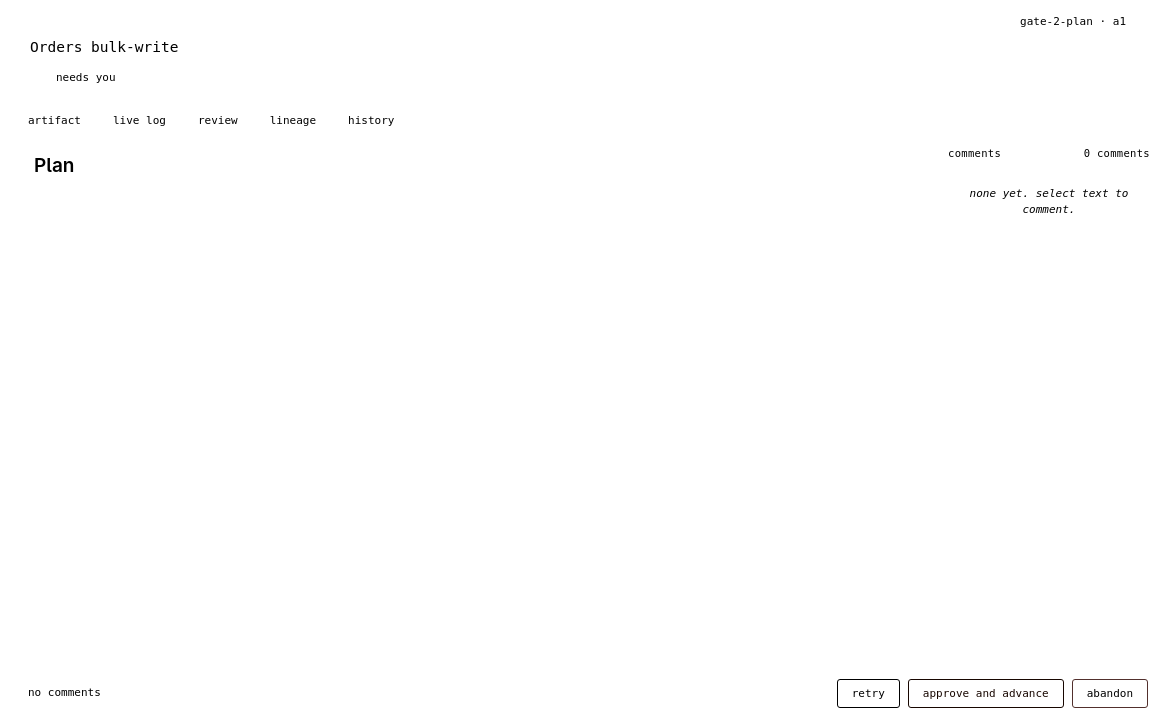
Test case: CardDrawer › shows an empty history hint when there are no invocations
Click the tab "history" at {"x": 371, "y": 120}, box top-left (332, 105), bottom-right (410, 136)
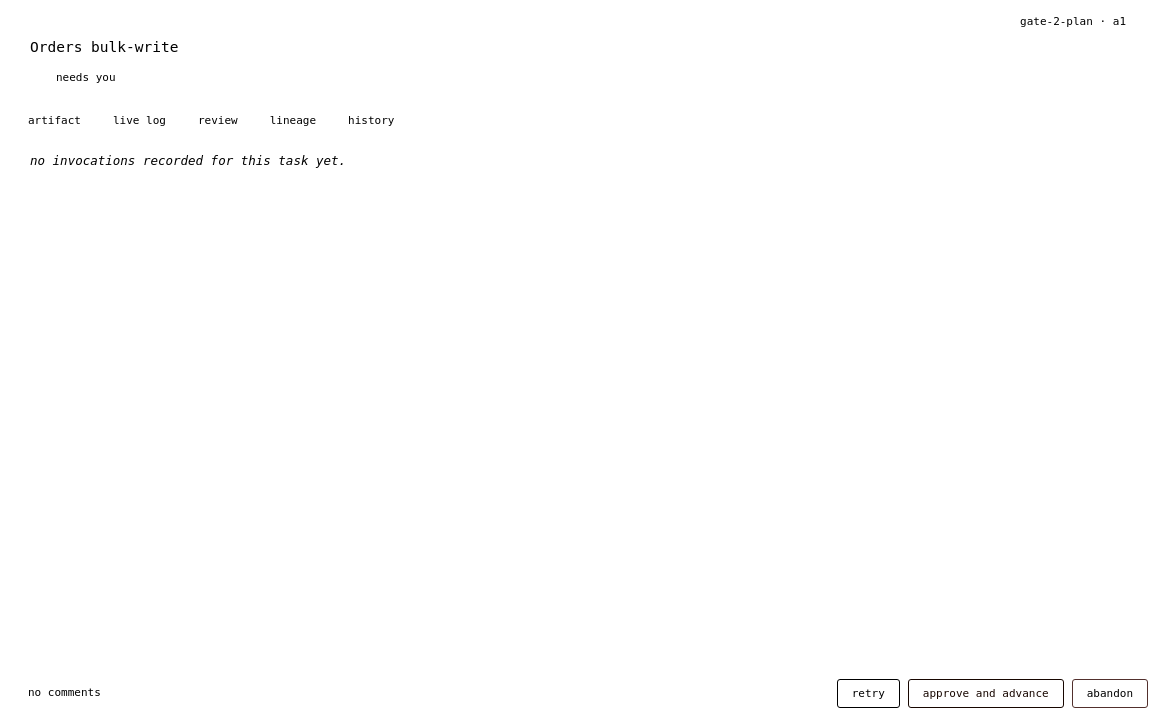
Expected: the text "no invocations recorded for this task yet." is shown, top-left (30, 153), bottom-right (346, 168)
